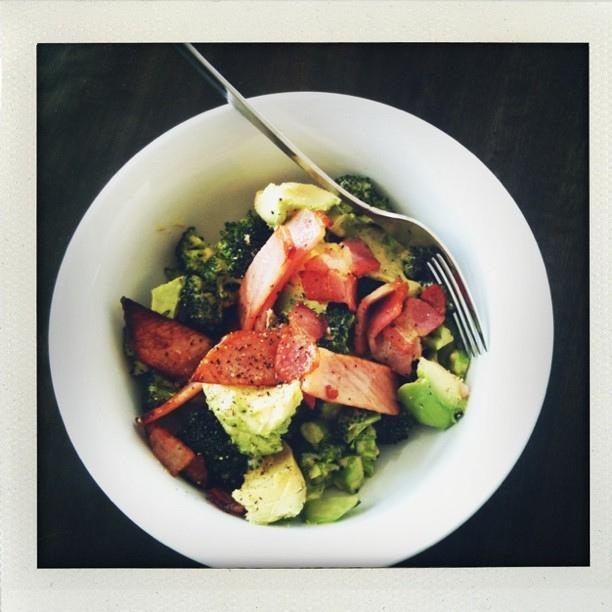broccoli: (175, 403, 240, 491), (398, 356, 469, 432), (297, 433, 347, 485), (334, 174, 396, 213), (177, 291, 222, 337), (317, 304, 358, 354), (174, 226, 216, 274), (335, 407, 382, 444), (219, 216, 259, 256), (200, 253, 232, 287)
